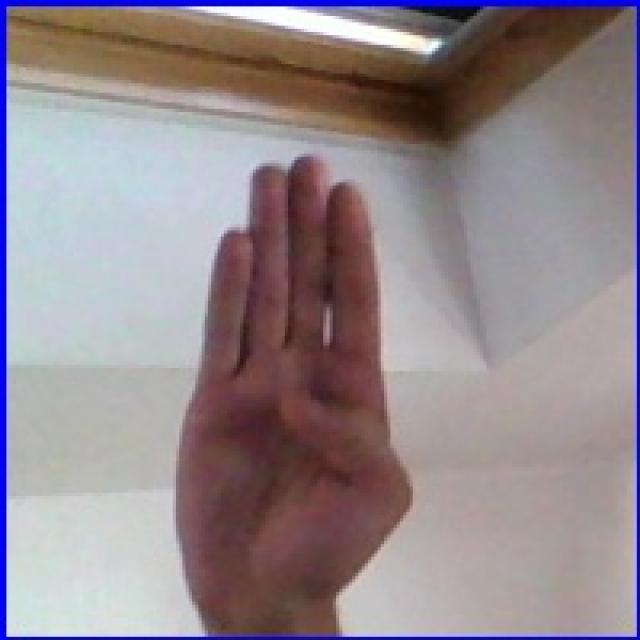Letra B: (152, 138, 431, 627)
